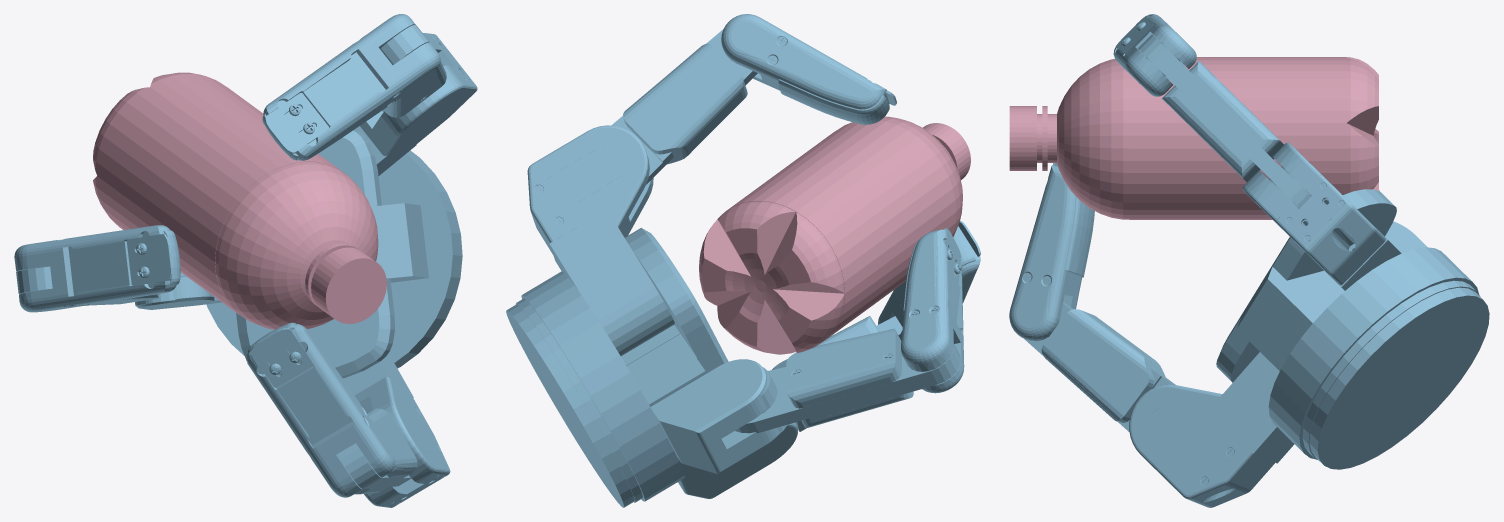
The picture shows the model from 3 angles, left to right: view 1: azimuth 30°, elevation 25°; view 2: azimuth 150°, elevation 25°; view 3: azimuth 270°, elevation 25°; orthographic projection. The views are drawn at different scales.
Visible parts, largest first — view 1: world; view 2: world; view 3: world.
Part boxes in pixels (box(x1,y1,x2,y2)): world: box(14, 14, 477, 507); world: box(506, 14, 980, 507); world: box(1009, 14, 1489, 507).
Size of the model in its own units: 0.1805 by 0.1923 by 0.1774.
